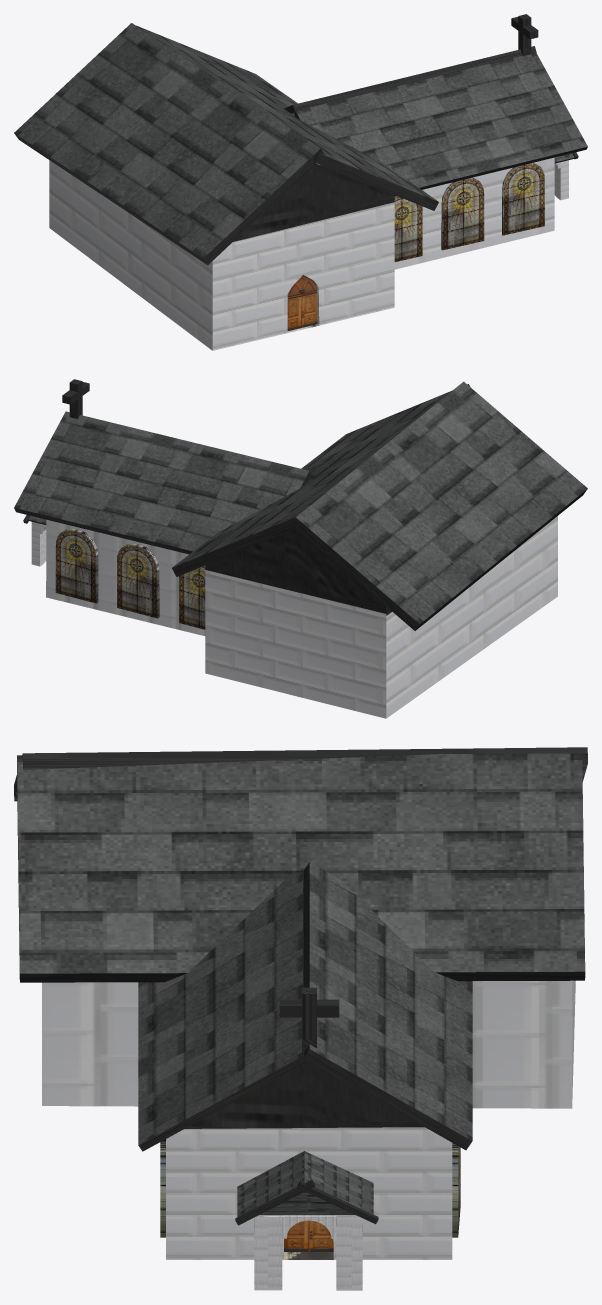
Rendered from Cult Church.fbx.
The picture shows the model from 3 angles, top to bottom: view 1: azimuth 30°, elevation 25°; view 2: azimuth 150°, elevation 25°; view 3: azimuth 270°, elevation 25°; orthographic projection. The views are drawn at different scales.
Visible parts, largest first — view 1: Cube.012; view 2: Cube.012; view 3: Cube.012.
Boxes of the visible parts, box(x1,y1,x2,y2) form: Cube.012: box(14, 14, 587, 350); Cube.012: box(14, 379, 587, 718); Cube.012: box(14, 747, 587, 1290).
Size of the model in its own units: 27657 by 10606 by 18970.
9 materials, 9 textured.
